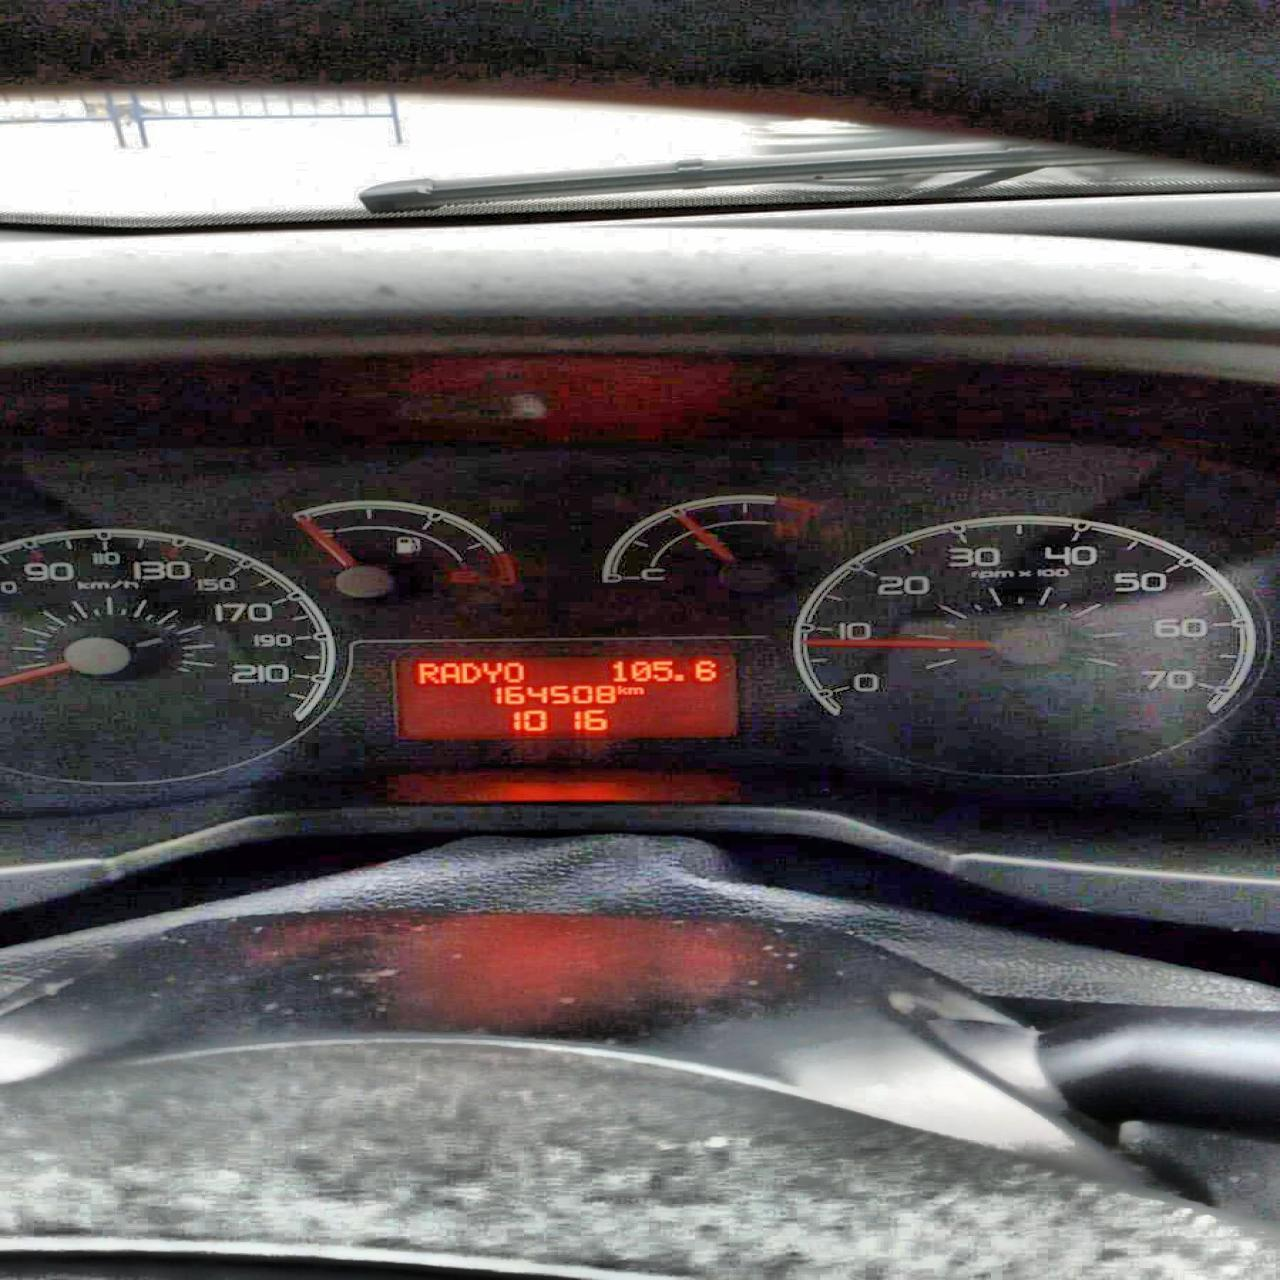-: (672, 673, 686, 682)
0: (520, 708, 545, 730), (629, 660, 649, 681), (571, 683, 591, 704)
1: (611, 659, 629, 682), (571, 708, 581, 730), (492, 685, 502, 704), (511, 710, 519, 731)
4: (525, 685, 546, 703)
5: (651, 658, 674, 682), (549, 685, 570, 703)
6: (583, 708, 610, 731), (693, 659, 717, 682), (503, 683, 524, 706)
8: (592, 683, 614, 703)
X: (502, 660, 526, 682), (459, 660, 482, 683), (415, 662, 438, 683), (438, 661, 458, 683), (482, 660, 499, 682), (626, 686, 645, 695), (617, 682, 628, 695)
odometer: (397, 654, 737, 741)
